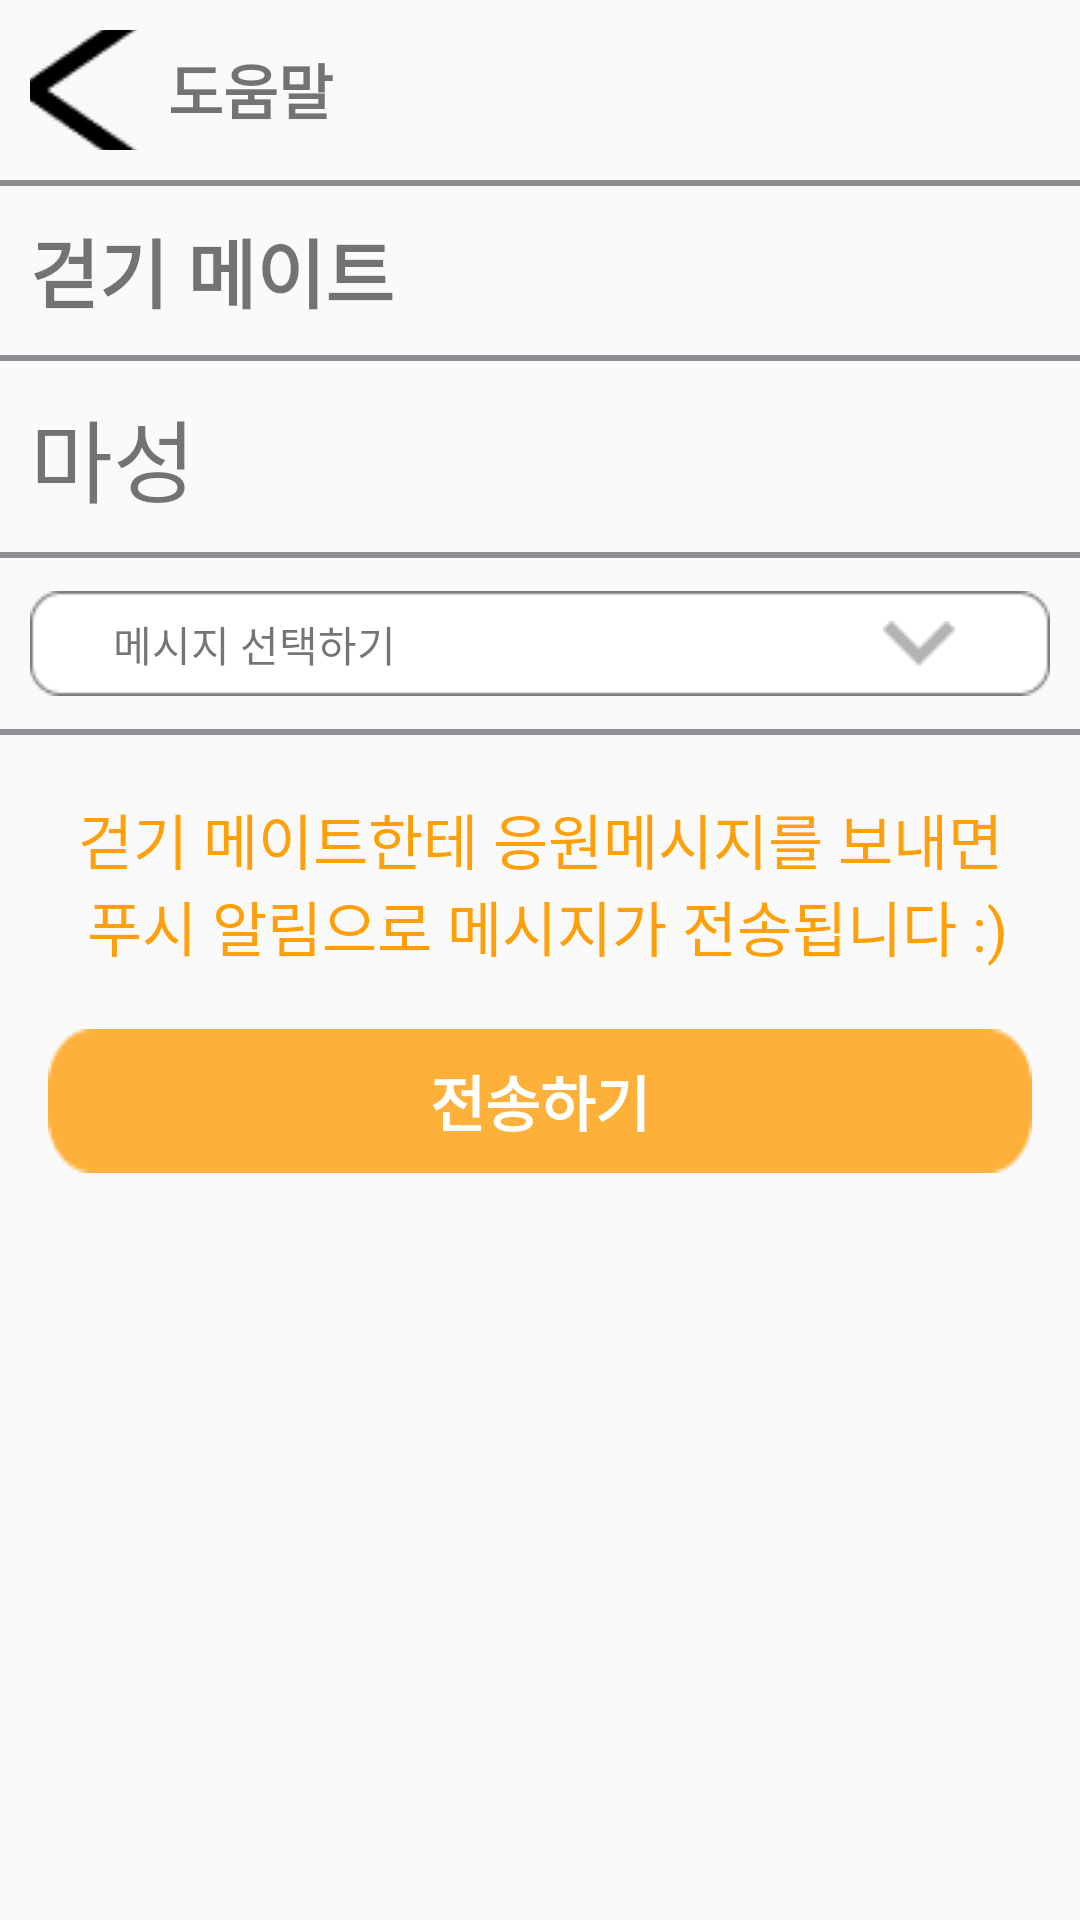

Screen size 1080×1920. Icon name, then its center in pixels as point (x, y):
back: point (84, 90)
